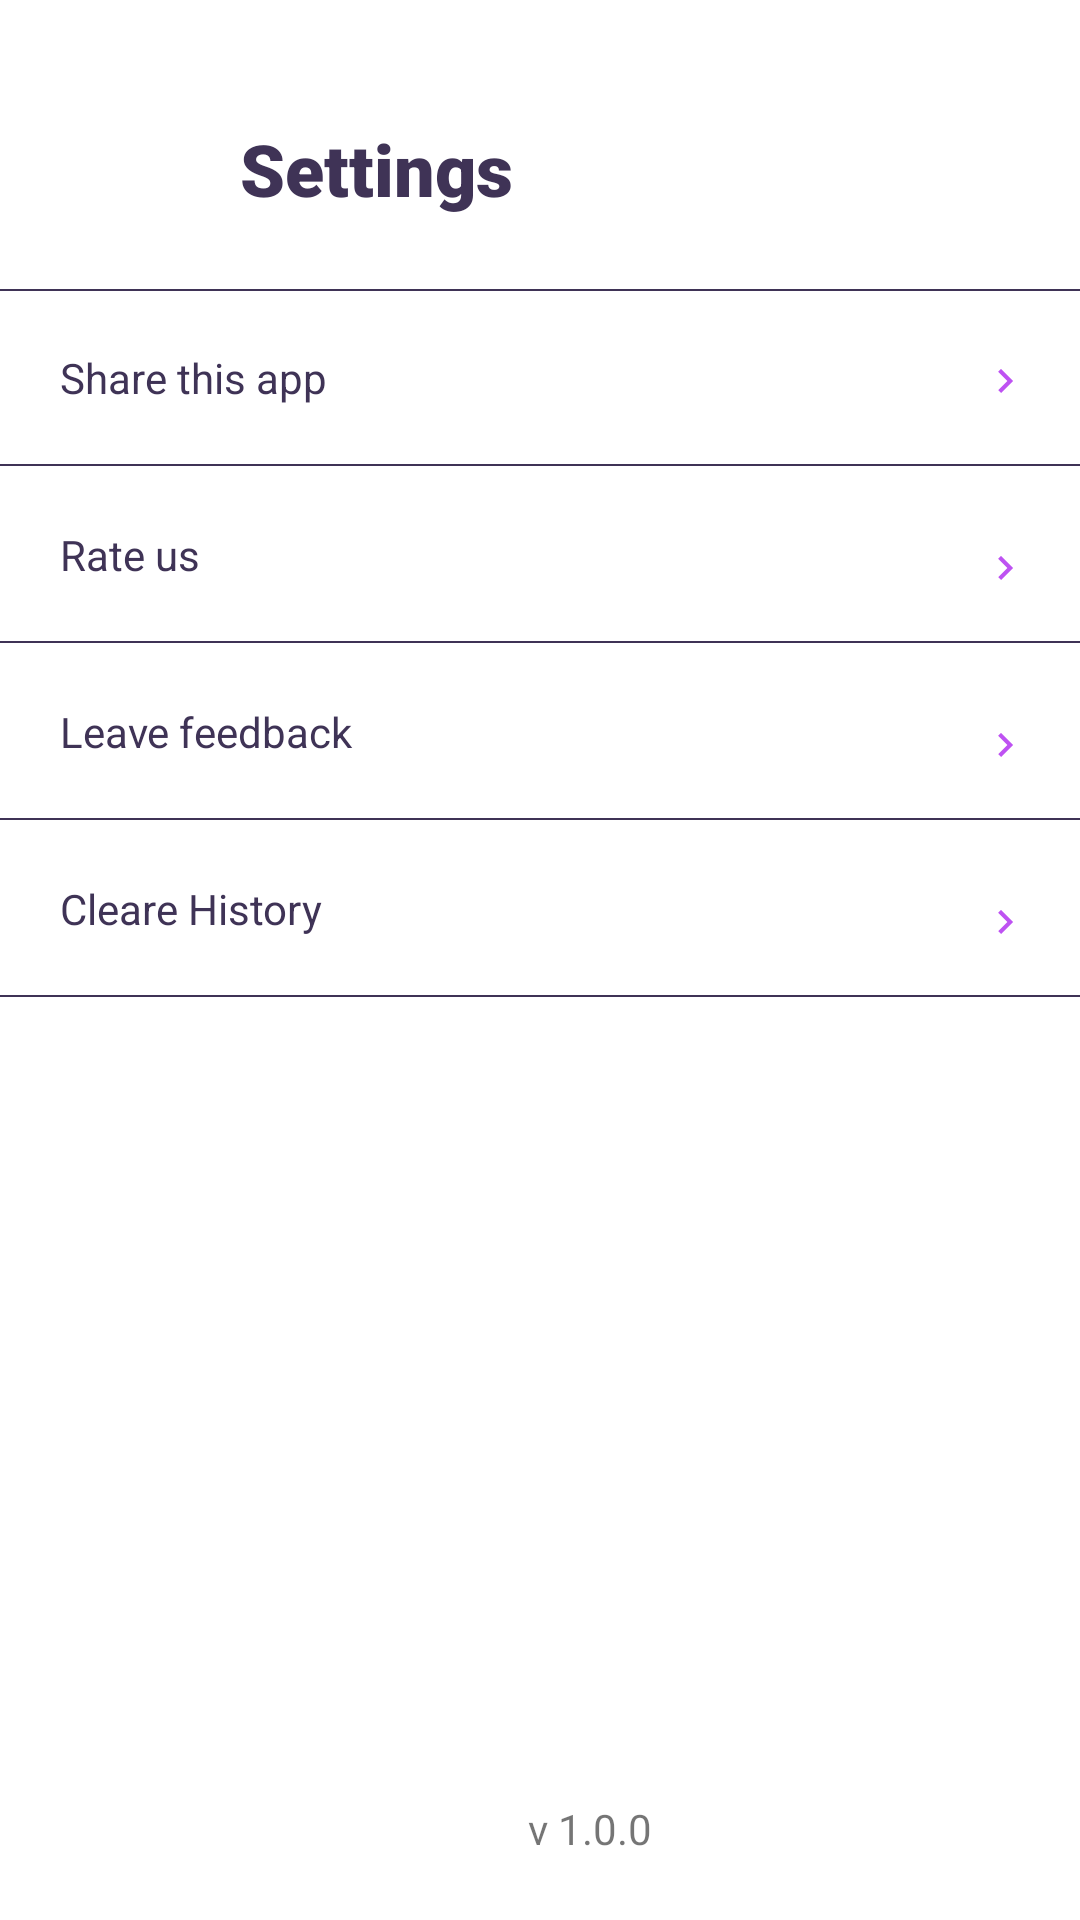

Where icons sit on this 1080px×1920px app screen, as (x1, y1, x2, y2):
next: (998, 369, 1013, 393), (998, 556, 1013, 580), (998, 733, 1013, 757), (998, 910, 1013, 934)
